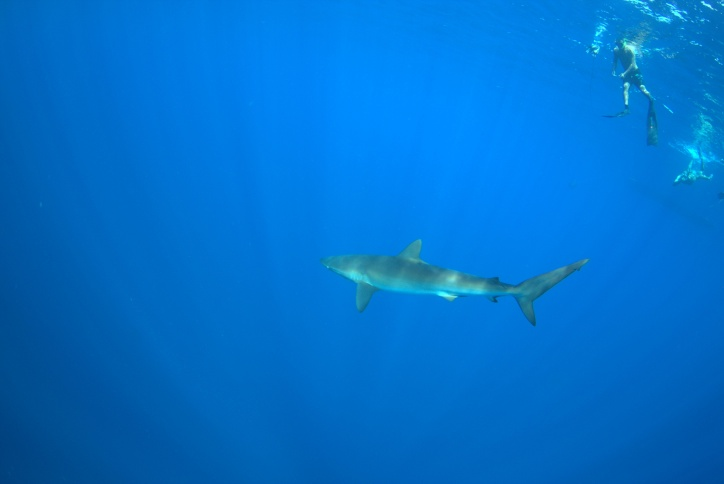Sedoso: (286, 230, 593, 337)
